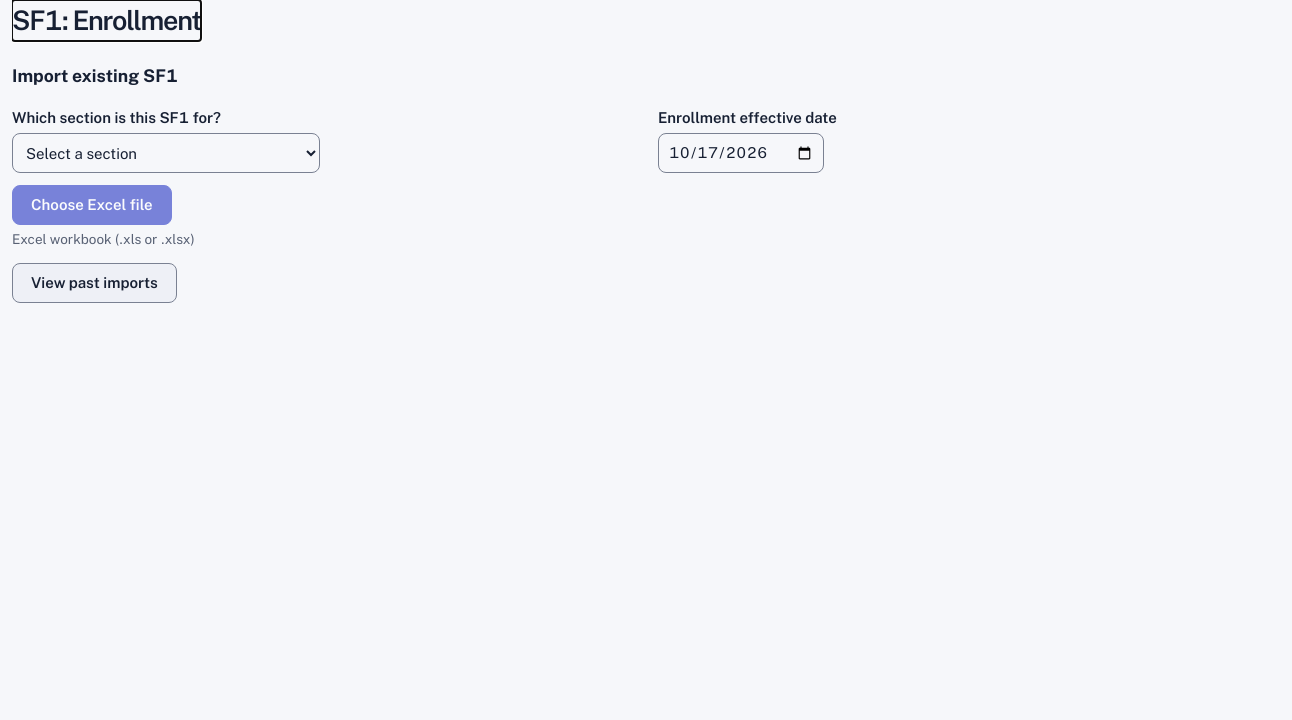
Scenario: Sf1ImportScreen › a warning does not disable the import button
The image size is (1292, 720).
Select "Sampaguita — Grade 1 (2026-2027)" in the dropdown labelled "Which section is this SF1 for?". click: (166, 153)
box: [12,133,320,173]
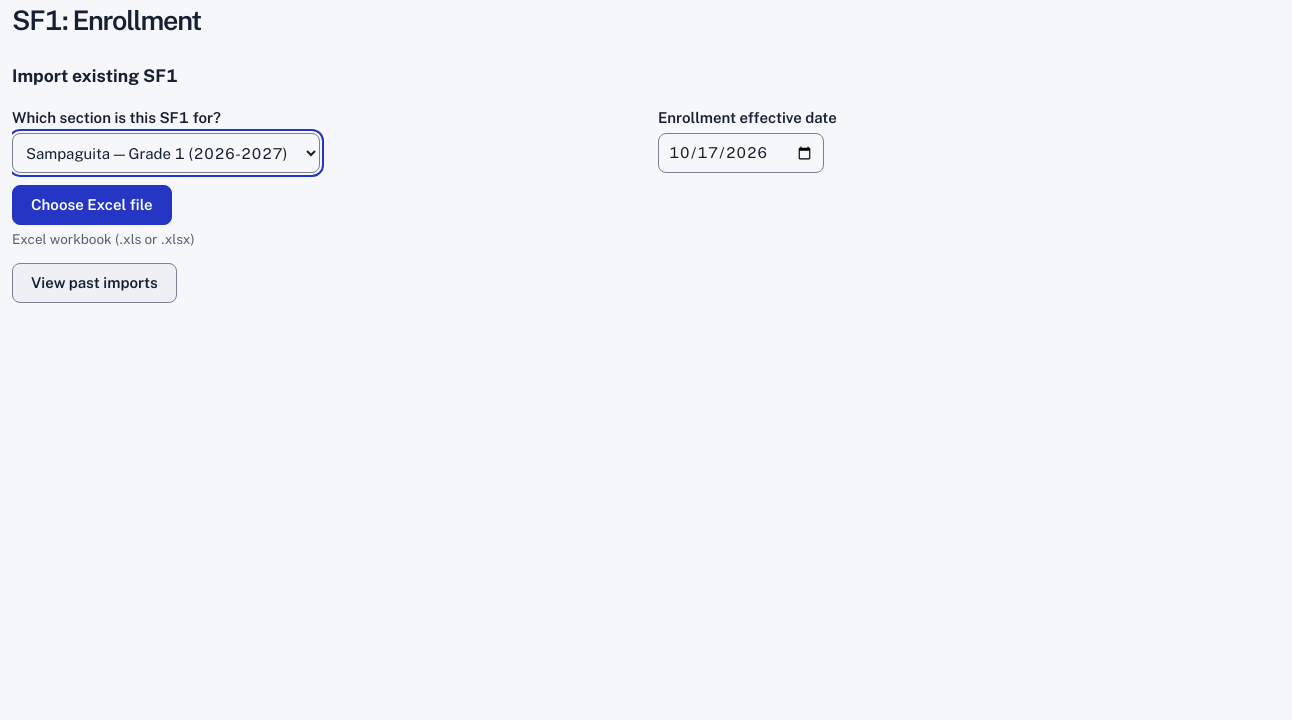
Click the button "Choose Excel file". click: (92, 205)
box: [12,185,172,225]
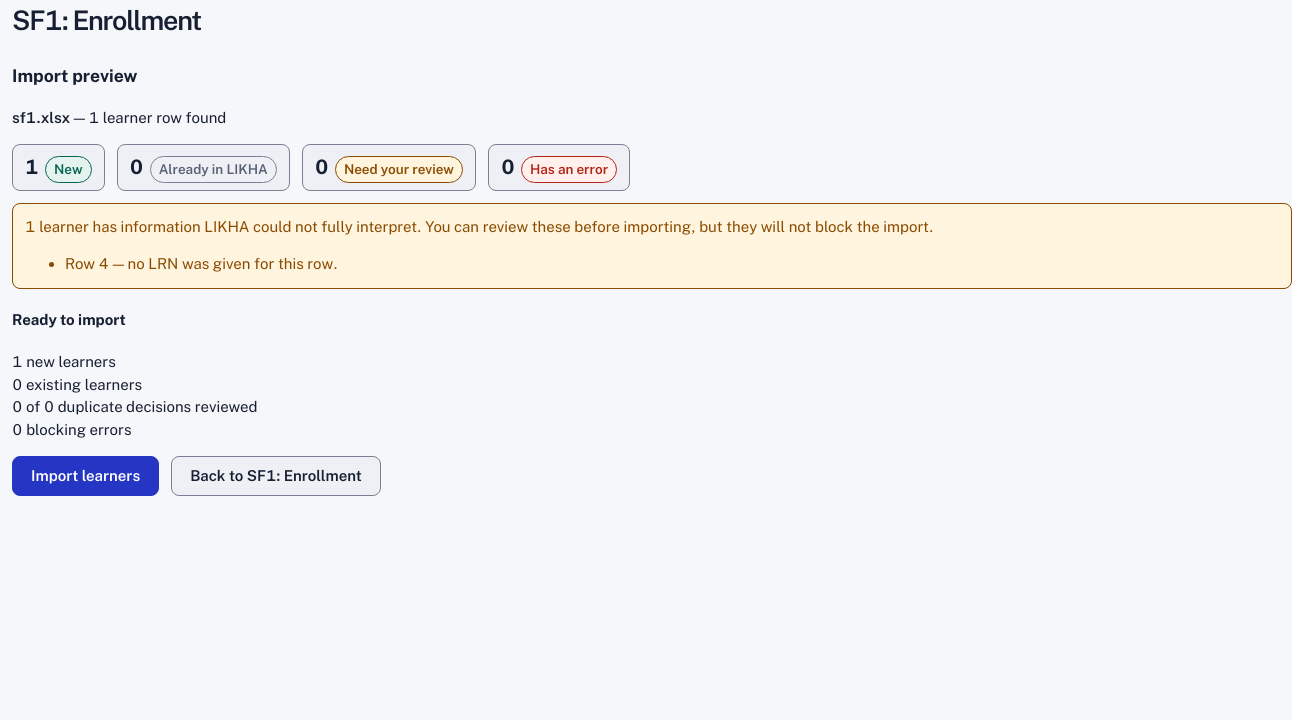
Expected: the heading "Import preview" is shown, [12,65,137,86]
Expected: the list item "Row 4 — no LRN was given for this row." is shown, [65,255,338,272]
Expected: the button "Import learners" is enabled, [12,456,159,496]
